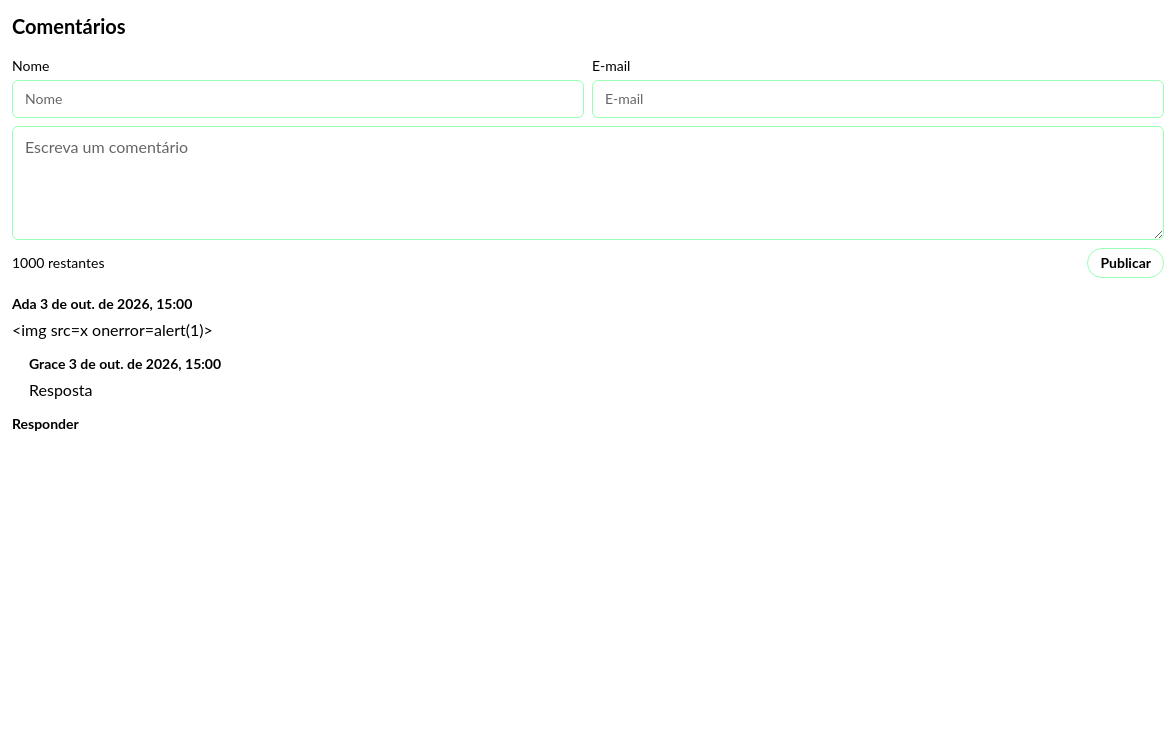
Test case: offers one reply level under a comment
Expected: the text "Resposta" is shown, [29,380,92,399]
Click the button "Responder" at (45, 424), box [12,414,79,434]
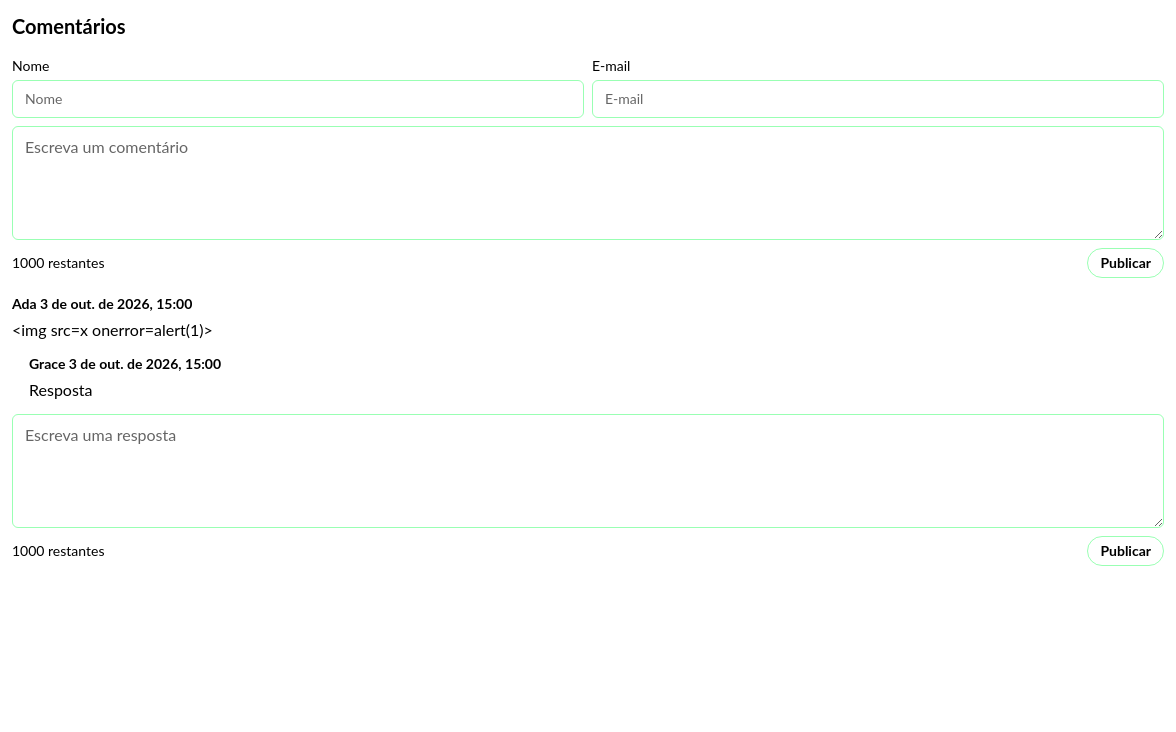
Expected: the text box labelled "Escreva uma resposta" is shown, [12,414,1164,528]
